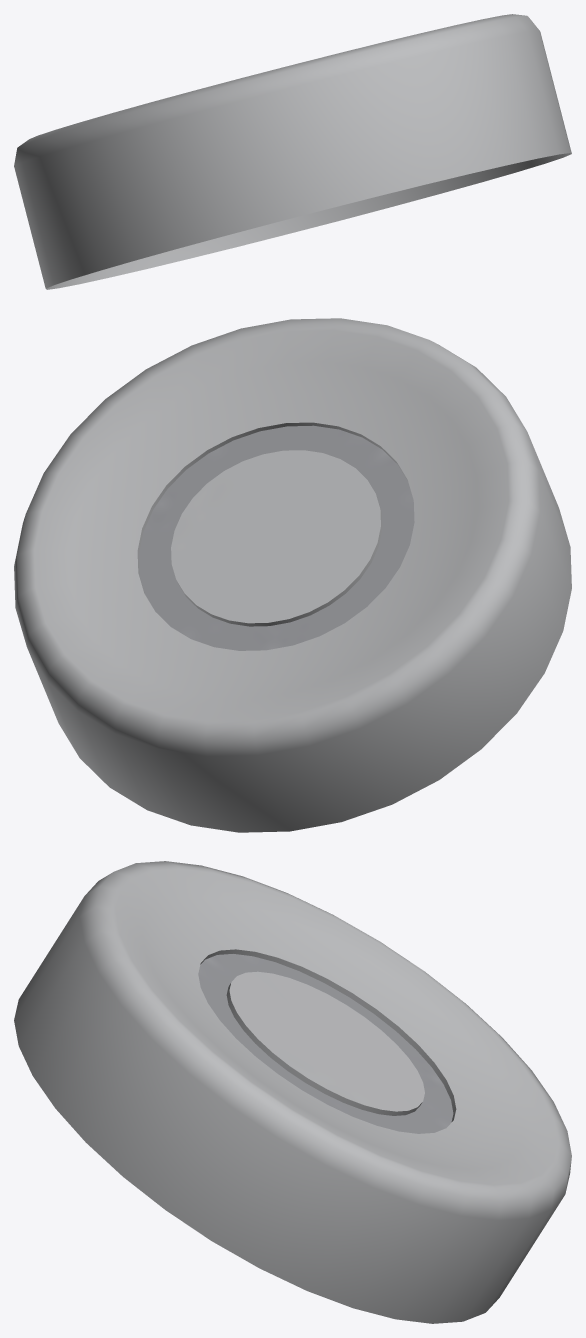
Rendered from button_enter.obj.
3 renders of one model, top to bottom at view 1: azimuth 30°, elevation 25°; view 2: azimuth 150°, elevation 25°; view 3: azimuth 270°, elevation 25°, orthographic. The views are drawn at different scales.
Parts seen in each view (by area): view 1: button_enter; view 2: button_enter; view 3: button_enter.
Boxes of the visible parts, x1,y1,x2,y2 form: button_enter: [14, 14, 571, 289]; button_enter: [14, 318, 571, 832]; button_enter: [14, 861, 571, 1323].
Bounding box in the file's own units: 0.00998 × 0.0072 × 0.00984.
1 material, 1 textured.
